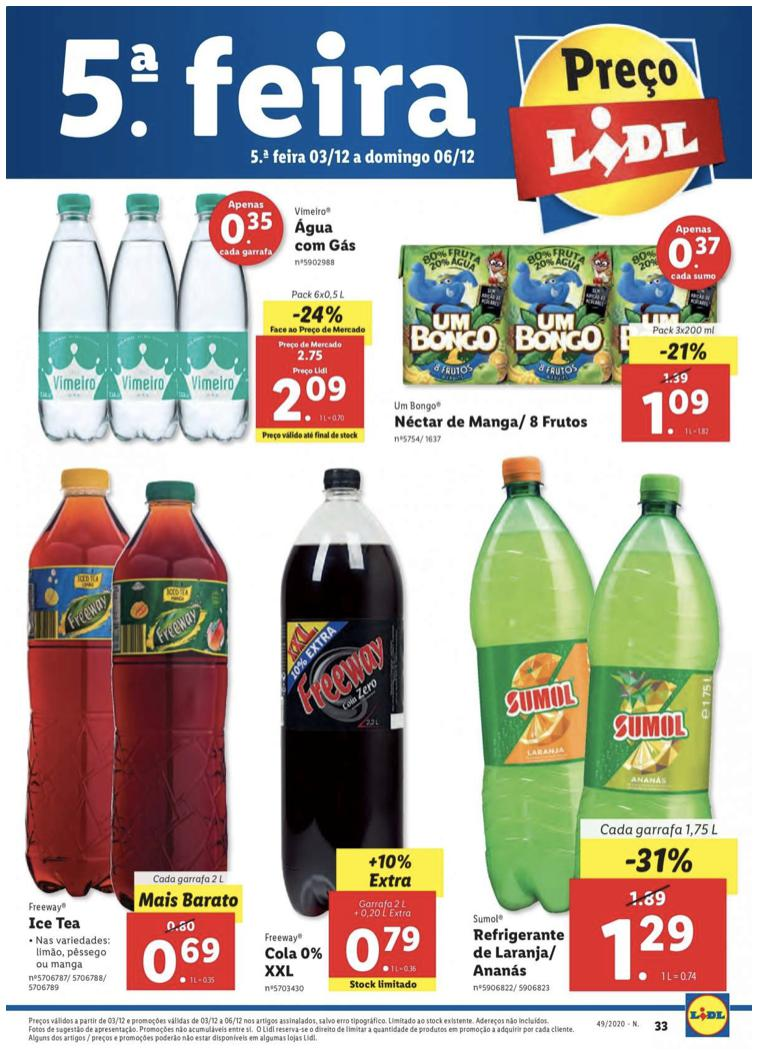name: (471, 924, 567, 979), (394, 412, 592, 433), (292, 217, 362, 255), (260, 946, 326, 979), (27, 913, 85, 937)
price: (601, 913, 701, 986), (266, 369, 355, 429), (143, 934, 221, 986), (347, 923, 425, 973), (641, 387, 712, 437)
product: (463, 449, 751, 998), (12, 475, 250, 995), (250, 457, 467, 994), (25, 179, 375, 450), (393, 215, 746, 461)
promotion: (618, 842, 700, 875), (288, 300, 348, 330), (658, 338, 712, 367)
